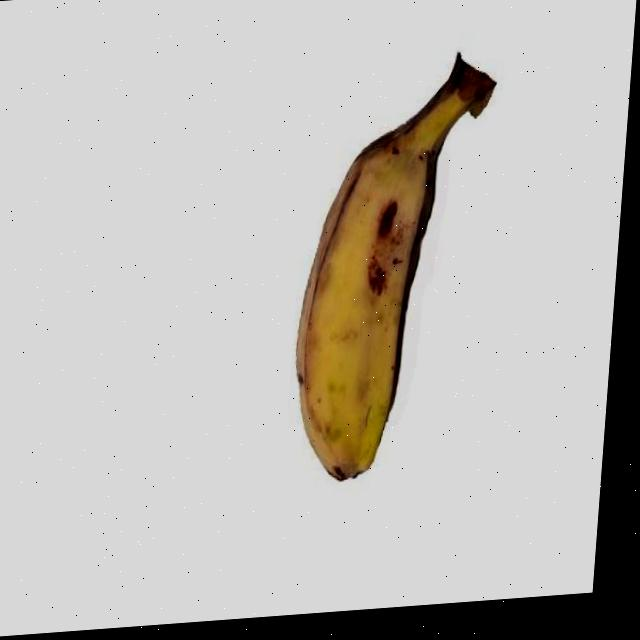banana: (281, 124, 448, 488)
